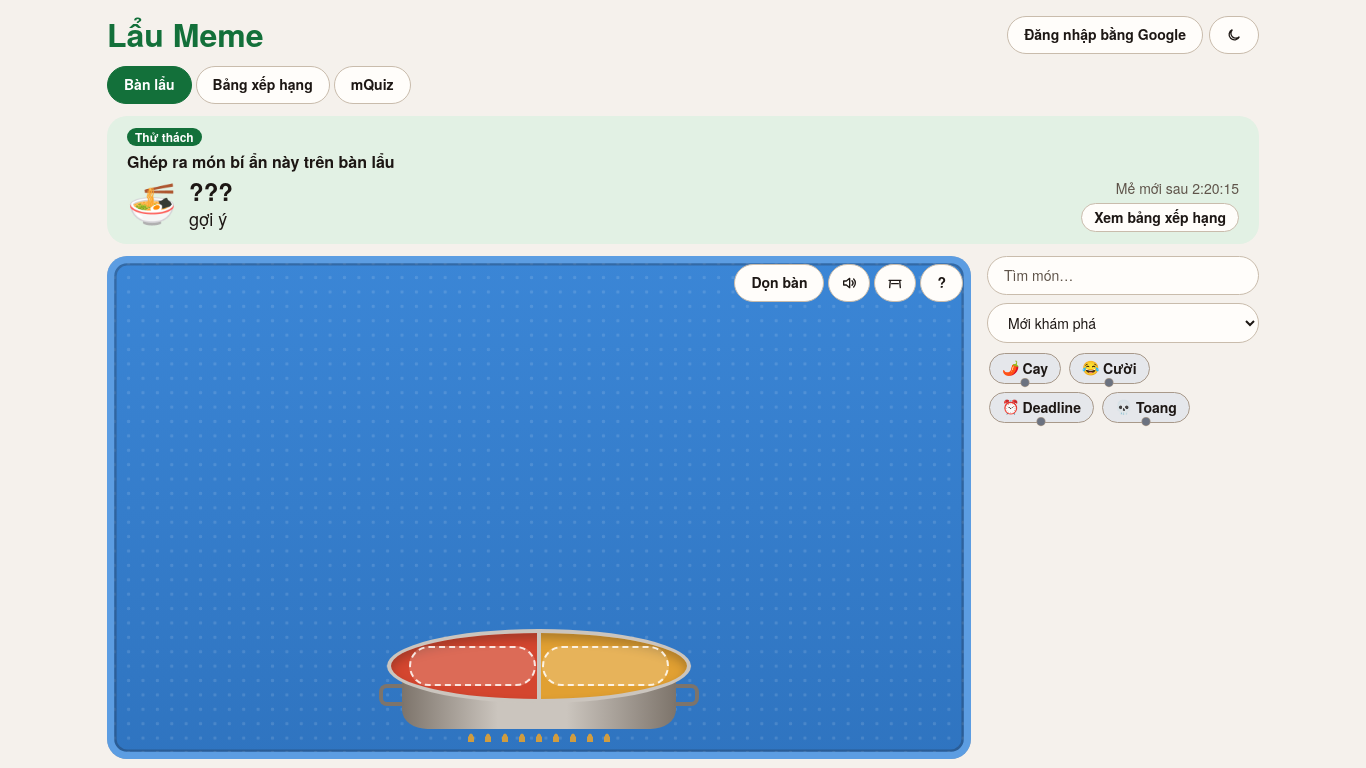
Scenario: mobile-fit: vuốt cuộn trên món (AC-GAME-21, 390 px) › AC-GAME-21: 390×844, món trong Đĩa và trên bàn cho phép vuốt dọc (touch-action có pan-y), không phải none
Expected: the list named "Đĩa nhúng" is shown, [989, 353, 1190, 423]
Press the mouse on the list item with test id "plate-item" showing "🌶️ Cay" at (1025, 368), box [989, 353, 1061, 384]
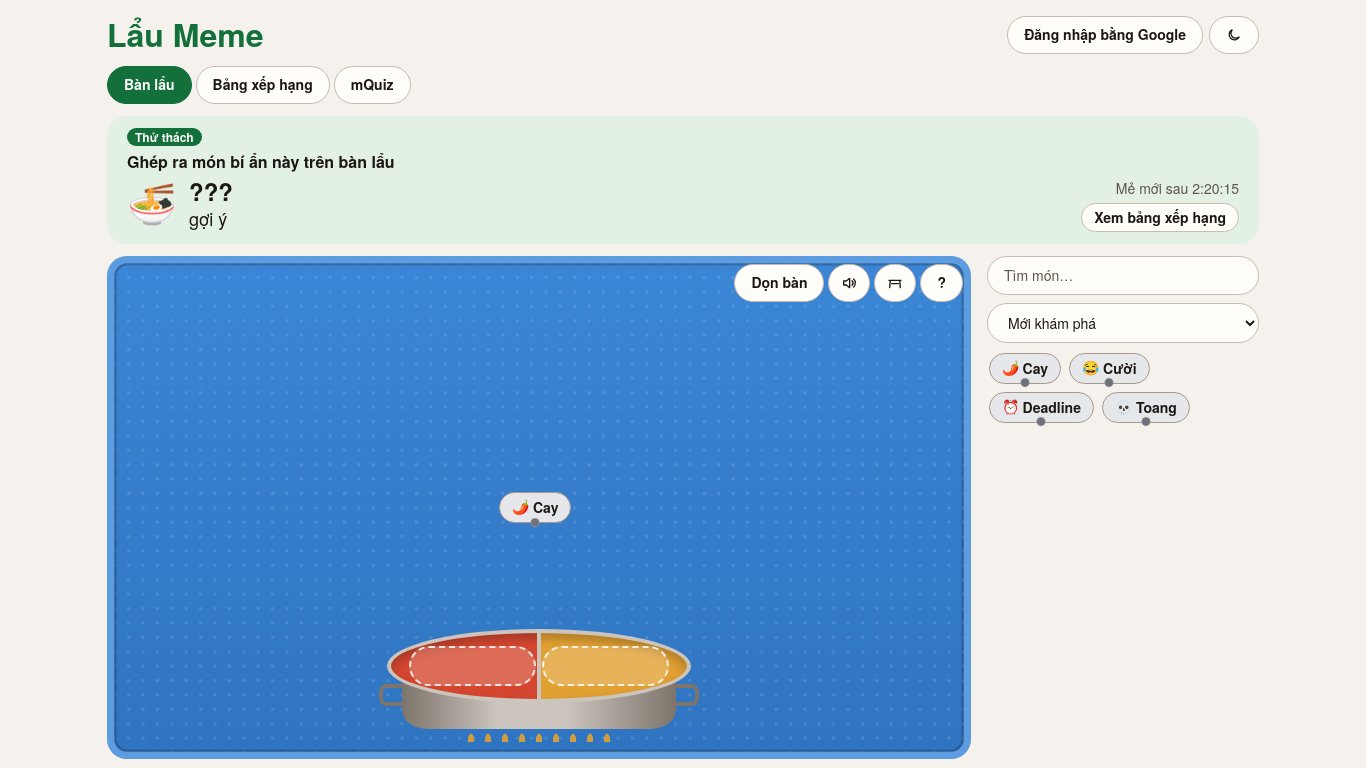
Now the number of elements with test id "table-item" is 1, box [499, 492, 572, 523]
